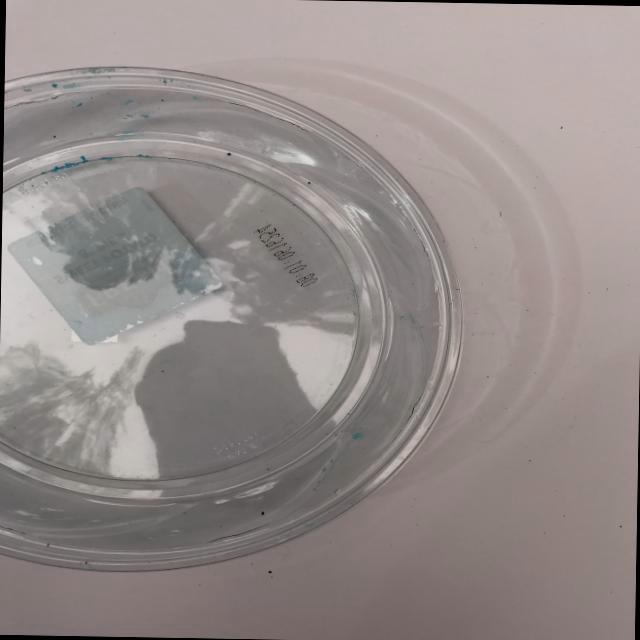plastic: (0, 34, 497, 601)
